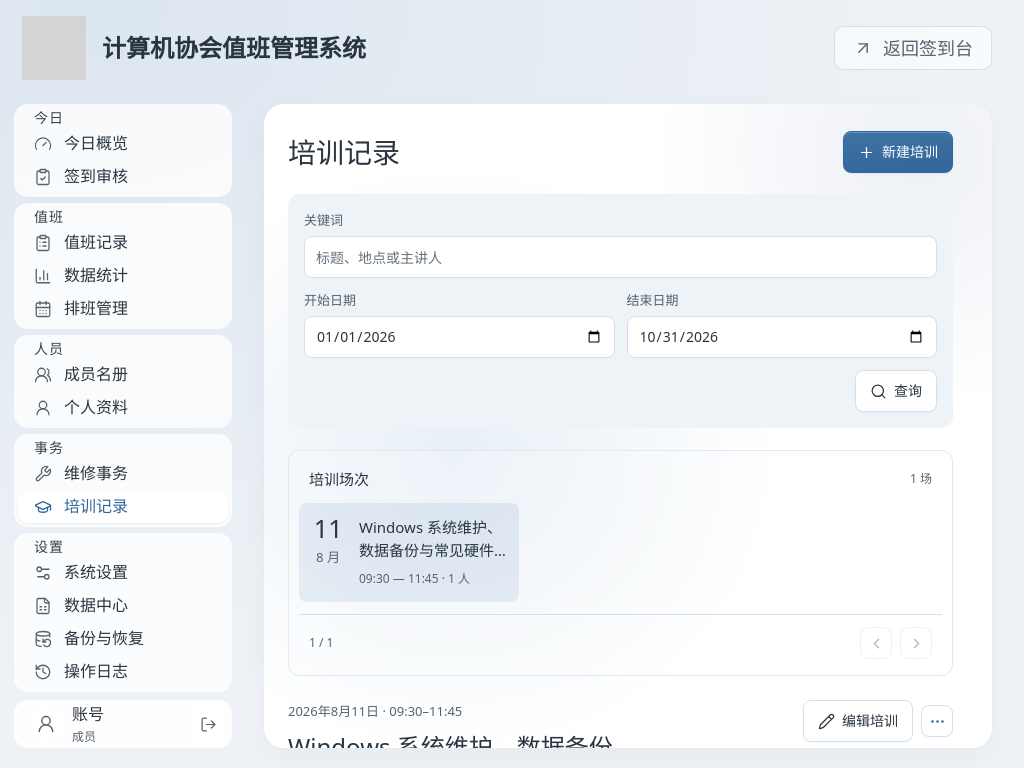
Test: TrainingPage details › labels icon actions and prepares participant rows for narrow screens
The width and height of the screenshot is (1024, 768).
Check: the element with class "training-month-shell" is shown, box [288, 450, 953, 676]
Check: the number of buttons with class "training-ribbon-event" is 1, box [299, 503, 519, 602]
Click the 8th button: coordinates (937, 721) [921, 705, 953, 737]
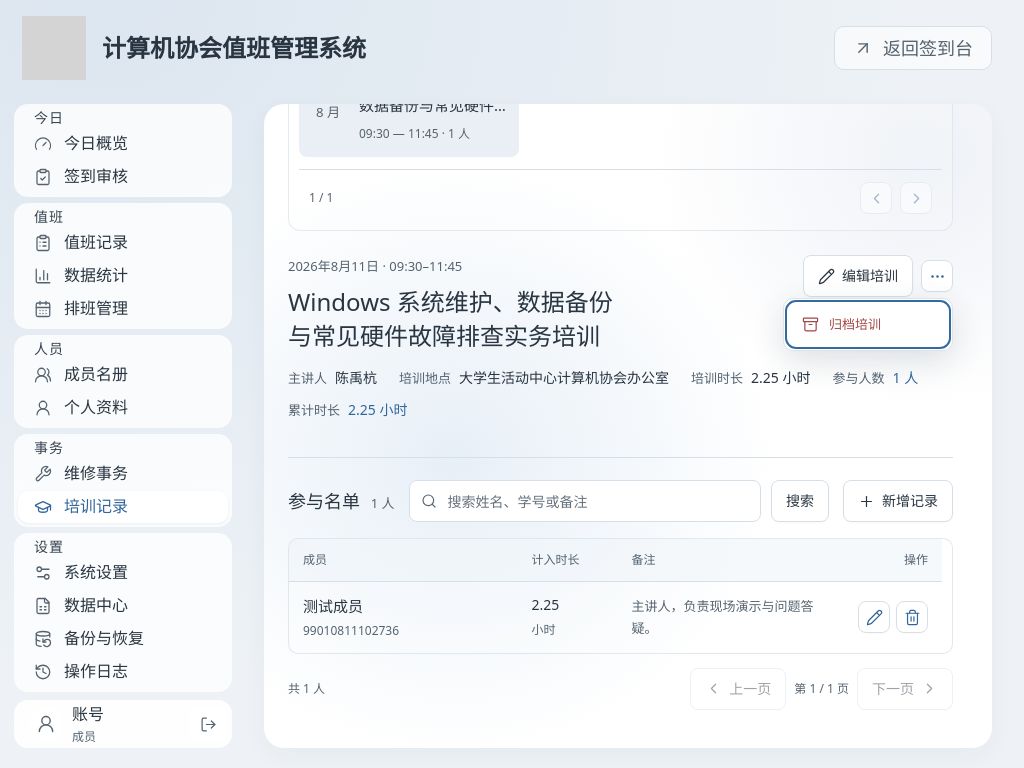
Check: the text "归档培训" is shown, box [790, 305, 946, 344]
Check: the number of rows with class "training-participant-row" is 1, box [289, 581, 942, 652]
Check: the row with class "training-participant-row" shows "测试成员", box [303, 596, 363, 616]
